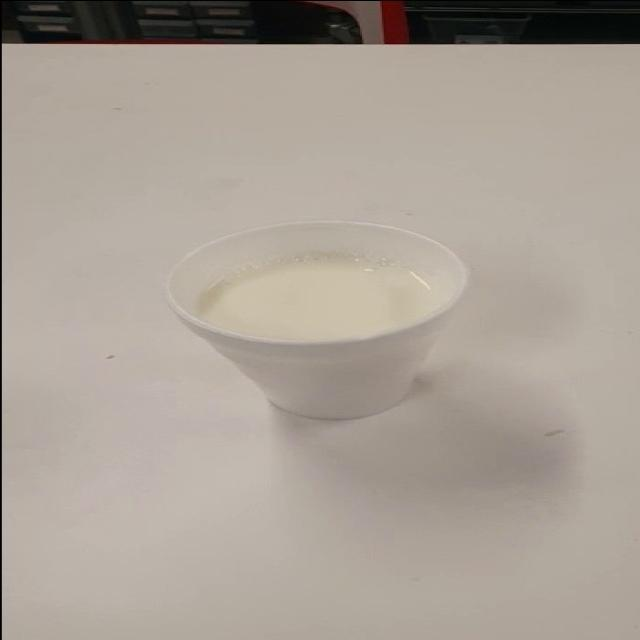Milk: (154, 190, 494, 440)
